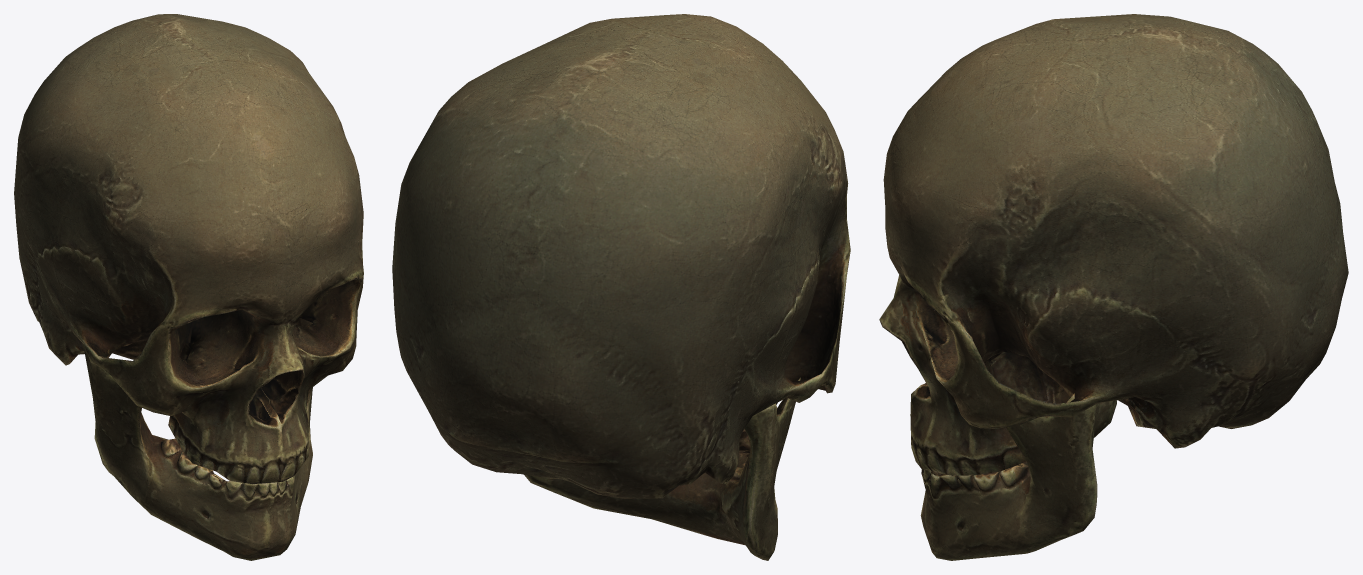
File: skull.fbx
3 views of the same model, side by side, from view 1: azimuth 30°, elevation 25°; view 2: azimuth 150°, elevation 25°; view 3: azimuth 270°, elevation 25° (orthographic). The views are drawn at different scales.
Visible parts, largest first — view 1: skull; view 2: skull; view 3: skull.
Boxes of the visible parts, box(x1,y1,x2,y2) form: skull: box(14, 14, 363, 560); skull: box(392, 14, 850, 560); skull: box(879, 14, 1348, 560).
Size of the model in its own units: 20.01 by 31.16 by 25.41.
